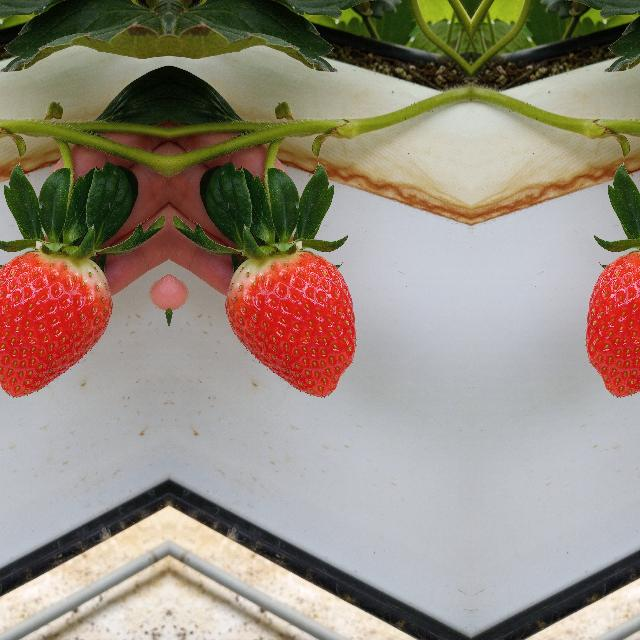Health_100: (224, 250, 356, 398), (0, 250, 112, 397), (584, 250, 640, 397)
